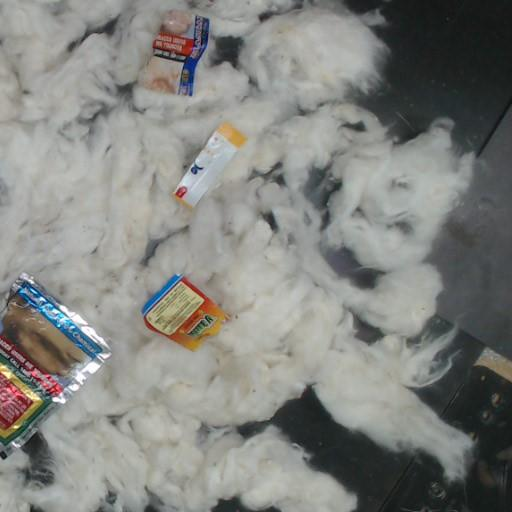cotton: (0, 0, 475, 511)
packet: (0, 274, 110, 458), (174, 124, 246, 207), (153, 11, 209, 96), (194, 315, 226, 340), (155, 275, 184, 296)
